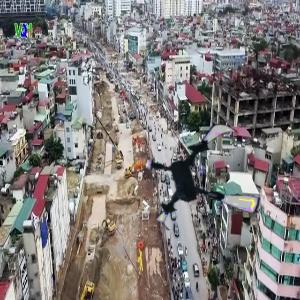drone: (146, 121, 265, 240)
